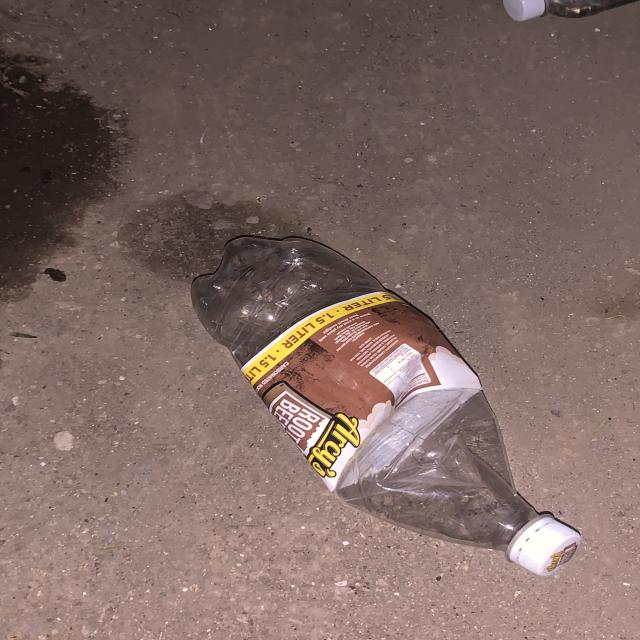Bottle: (191, 236, 581, 576)
